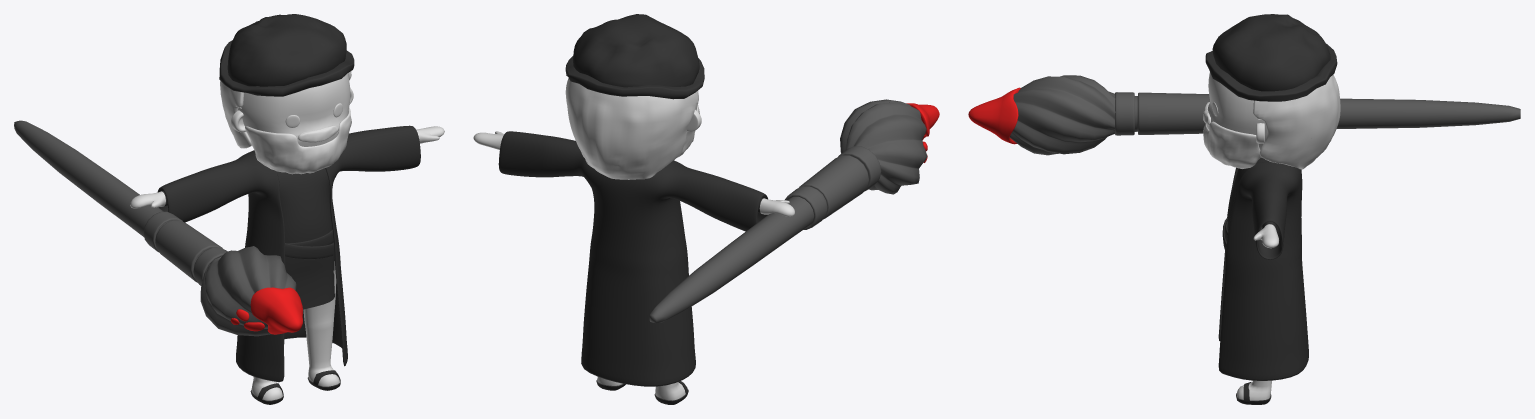
Rendered from DaVinci_BigB_Test_02.fbx.
3 views of the same model, side by side, from view 1: azimuth 30°, elevation 25°; view 2: azimuth 150°, elevation 25°; view 3: azimuth 270°, elevation 25° (orthographic). The views are drawn at different scales.
Visible parts, largest first — view 1: Robe, Top, Shirt, Bristles, Handle, Head, Beard, Ferrule, Legs, PaintBullet, Rim, Hair (+3 smaller); view 2: Robe, Hair, Top, Handle, Bristles, Ferrule, Rim, Legs, PaintBullet, Hand_R; view 3: Robe, Bristles, Top, Hair, Handle, Ferrule, Rim, Head, Beard, PaintBullet, Legs.
Part boxes in pixels (<box>): Robe: <box>157,125,420,382</box>; Top: <box>227,14,346,86</box>; Shirt: <box>162,168,334,309</box>; Bristles: <box>200,246,296,336</box>; Handle: <box>14,120,163,236</box>; Head: <box>238,73,350,146</box>; Beard: <box>245,107,351,174</box>; Ferrule: <box>143,211,227,285</box>; Legs: <box>251,261,339,400</box>; PaintBullet: <box>230,287,302,334</box>; Rim: <box>219,40,354,96</box>; Hair: <box>220,71,351,148</box>; Robe: <box>498,131,767,386</box>; Hair: <box>565,78,698,179</box>; Top: <box>573,14,699,87</box>; Handle: <box>649,196,814,323</box>; Bristles: <box>840,99,927,194</box>; Ferrule: <box>784,146,881,229</box>; Rim: <box>565,56,704,99</box>; Legs: <box>597,377,685,400</box>; PaintBullet: <box>906,103,939,162</box>; Hand_R: <box>759,198,794,216</box>; Robe: <box>1218,161,1308,380</box>; Bristles: <box>1009,75,1115,155</box>; Top: <box>1212,14,1330,91</box>; Hair: <box>1253,74,1340,169</box>; Handle: <box>1336,98,1520,128</box>; Ferrule: <box>1115,92,1209,135</box>; Rim: <box>1205,43,1337,101</box>; Head: <box>1206,72,1267,149</box>; Beard: <box>1203,121,1260,168</box>; PaintBullet: <box>968,87,1020,144</box>; Legs: <box>1237,380,1271,400</box>.
Bounding box in the file's own units: 16.98 × 17.53 × 24.28.
